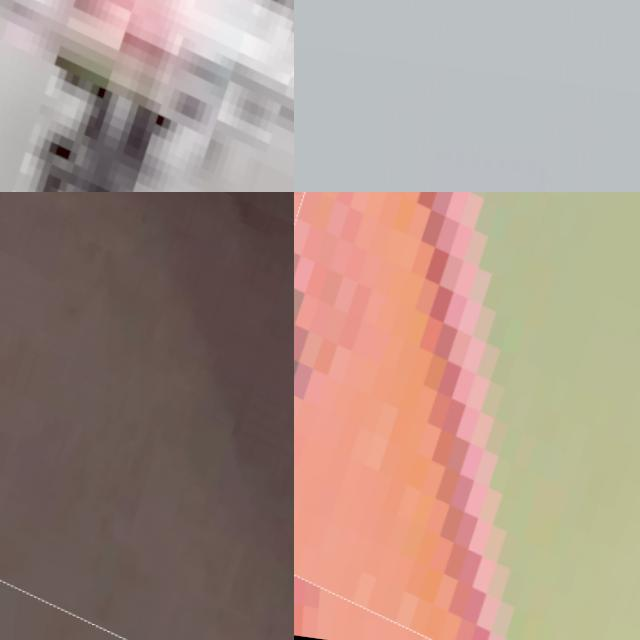0: (0, 0, 294, 192)
drone: (294, 192, 640, 640), (0, 192, 294, 640)
